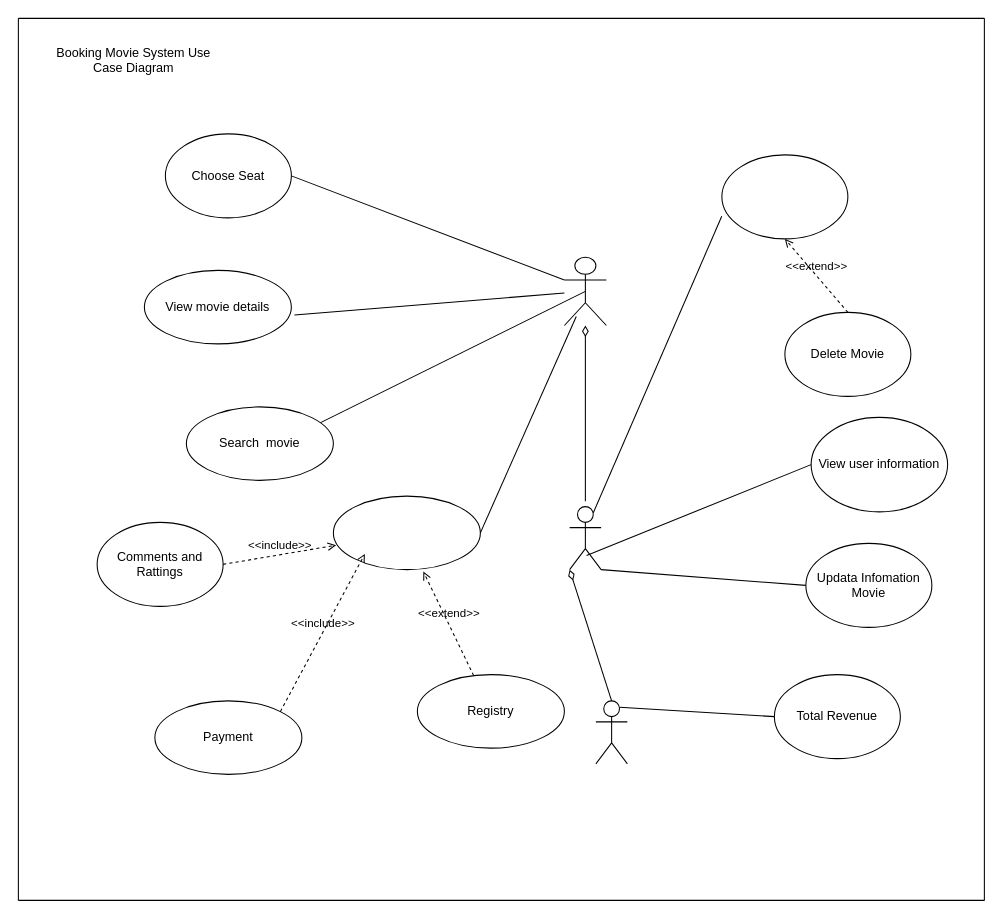
Image size: 1004x920. Some labels were removed from this diagram. The centre of each missing label's shape, as x and y in pixels:
"Add Movie" goes at [784,196].
"Log in" goes at [406,532].
"Manager" goes at [611,732].
"Staff" goes at [585,538].
"User" goes at [584,291].
